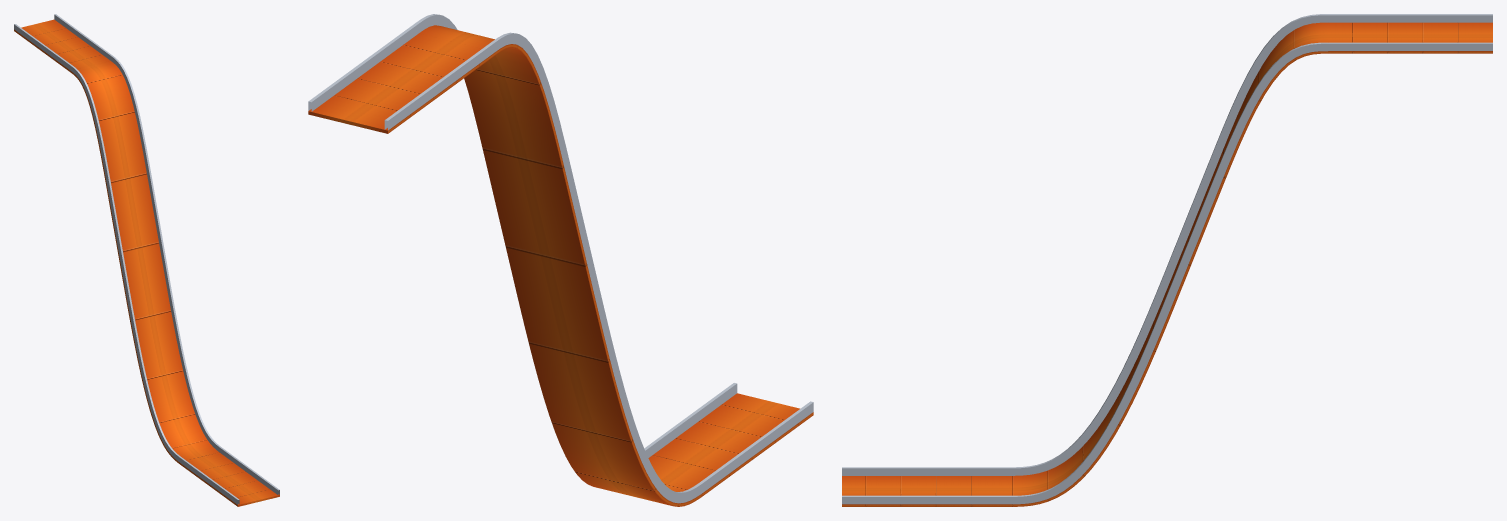
The model's file is steep-ramp-70-down.glb.
3 renders of one model, left to right at view 1: azimuth 30°, elevation 25°; view 2: azimuth 150°, elevation 25°; view 3: azimuth 270°, elevation 25°, orthographic. The views are drawn at different scales.
Bounding box in the file's own units: 3 × 21.8 × 27.76.
4 materials, 3 textured.
